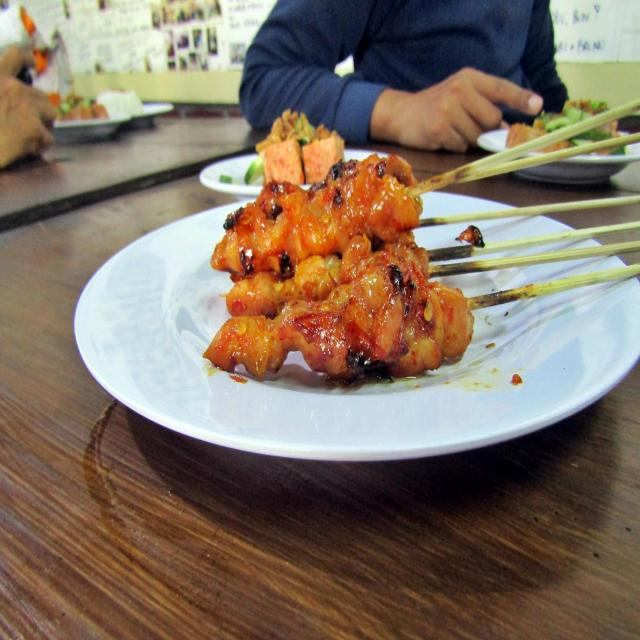Sate: (146, 156, 640, 426)
